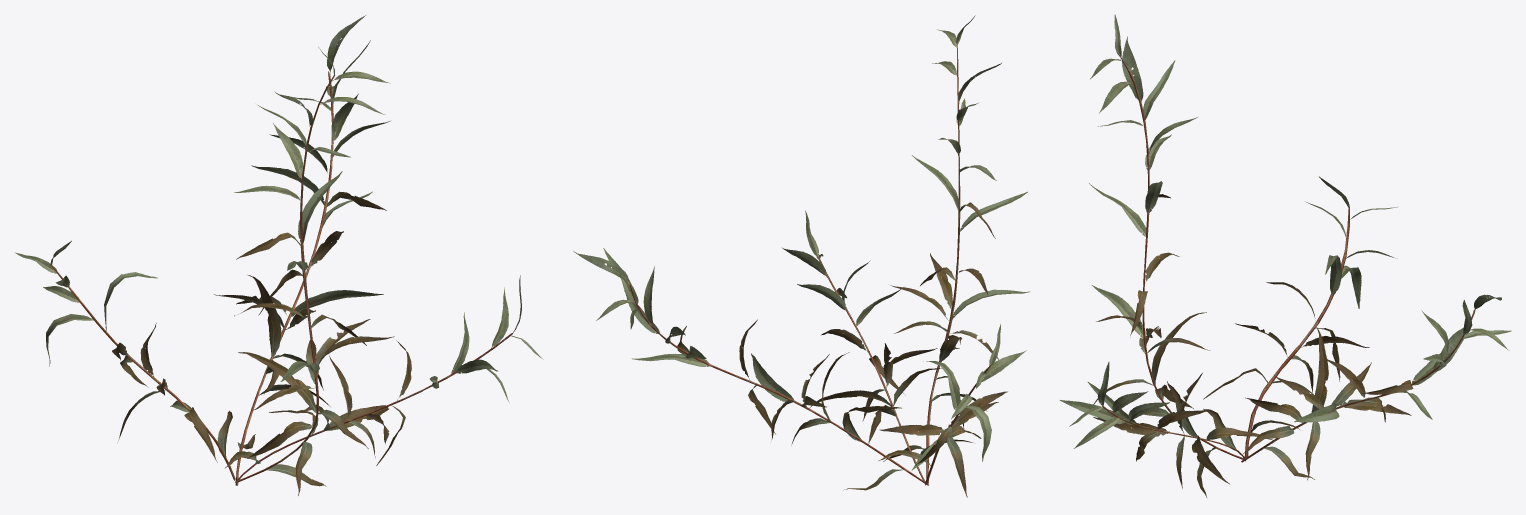
File: dry_grass_1.glb
3 views of the same model, side by side, from view 1: azimuth 30°, elevation 25°; view 2: azimuth 150°, elevation 25°; view 3: azimuth 270°, elevation 25° (orthographic). The views are drawn at different scales.
Visible parts, largest first — view 1: SCENERY_dry_grass_1; view 2: SCENERY_dry_grass_1; view 3: SCENERY_dry_grass_1.
Boxes of the visible parts, x1,y1,x2,y2 form: SCENERY_dry_grass_1: (15, 15, 543, 495); SCENERY_dry_grass_1: (573, 15, 1030, 497); SCENERY_dry_grass_1: (1059, 14, 1511, 497).
Bounding box in the file's own units: 0.4833 × 0.55 × 0.4913.
Materials: 1 (1 with a texture image).
